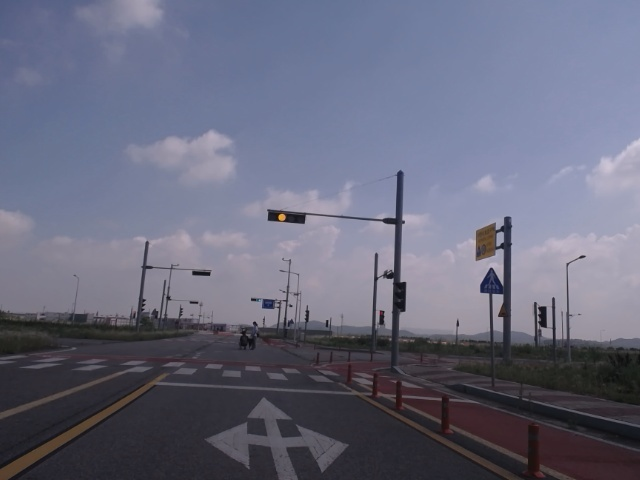orange_4: (267, 210, 306, 224)
